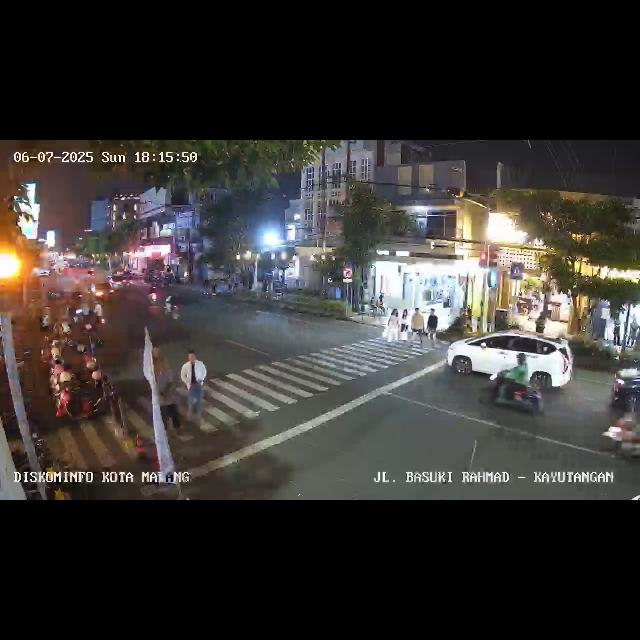car: (451, 330, 574, 390), (608, 362, 640, 413)
motorcycle: (485, 354, 545, 418), (600, 400, 640, 468), (90, 298, 108, 330), (162, 294, 182, 322), (146, 284, 158, 308)
person: (179, 350, 207, 432), (152, 354, 178, 436), (412, 308, 426, 344), (399, 308, 411, 342), (428, 307, 438, 341), (629, 318, 639, 350), (612, 320, 622, 350), (389, 307, 398, 339), (534, 312, 548, 332)
